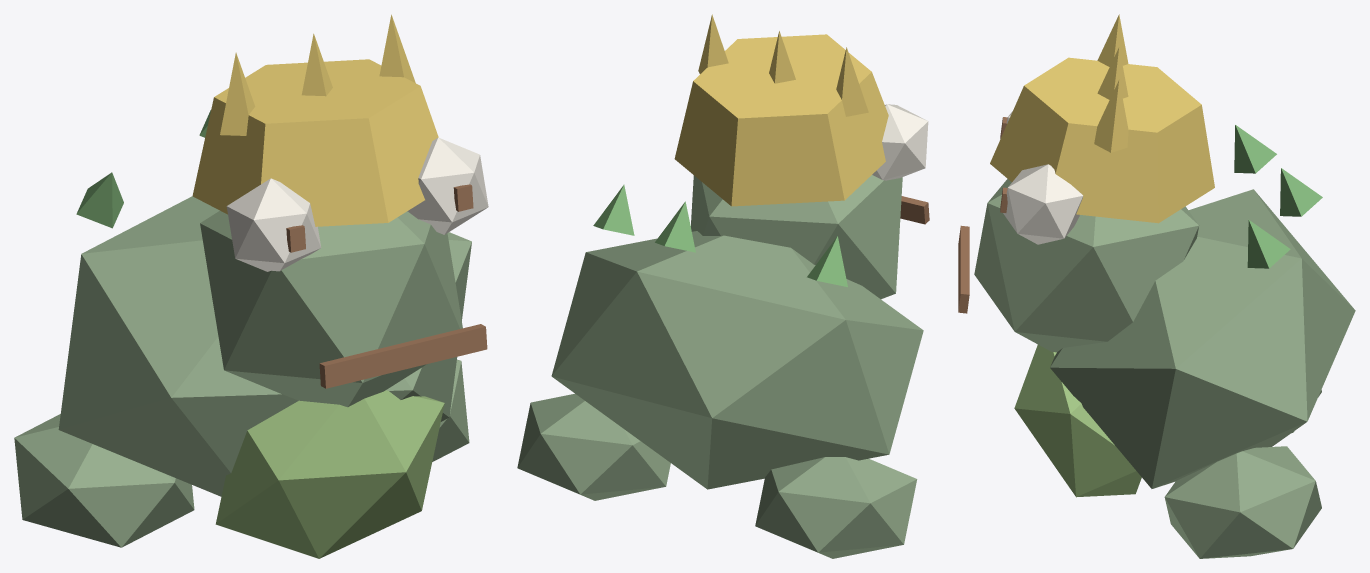
File: npcpose_toad_king_attack_05.glb
The picture shows the model from 3 angles, left to right: view 1: azimuth 30°, elevation 25°; view 2: azimuth 150°, elevation 25°; view 3: azimuth 270°, elevation 25°; orthographic projection. The views are drawn at different scales.
Parts seen in each view (by area): view 1: npcpose; view 2: npcpose; view 3: npcpose.
Boxes of the visible parts, x1,y1,x2,y2 form: npcpose: (14, 14, 488, 558); npcpose: (517, 14, 929, 558); npcpose: (958, 14, 1355, 558).
Bounding box in the file's own units: 1.75 × 2 × 1.6.
